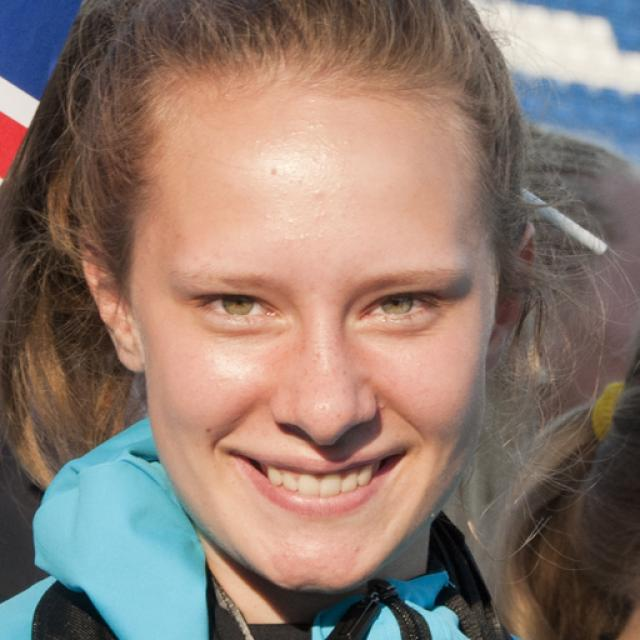Acne: (302, 185, 328, 201), (376, 399, 389, 417)
